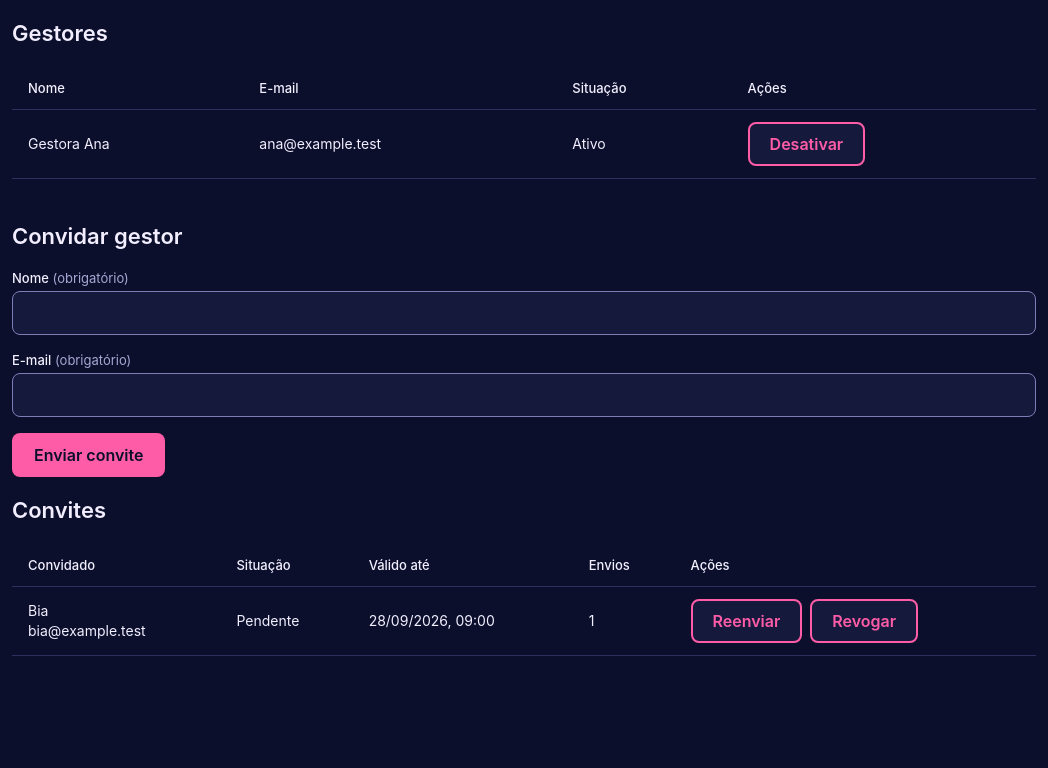
Test: ManagersAdmin (US4, FR-075) › desativar e revogar atualizam as linhas
Click the button with aria-label "Desativar Gestora Ana" at {"x": 806, "y": 144}, box [748, 122, 865, 166]
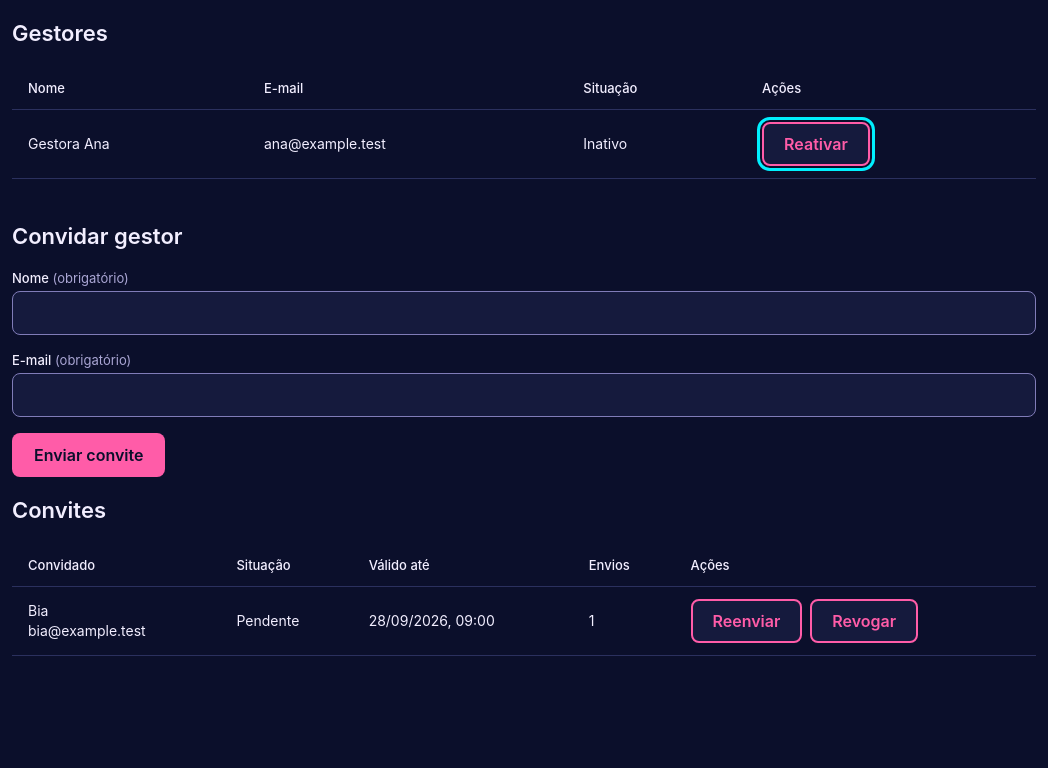
Now the button with aria-label "Reativar Gestora Ana" is shown, box [762, 122, 870, 166]
Click the button with aria-label "Revogar convite para bia@example.test" at {"x": 864, "y": 620}, box [810, 598, 918, 642]
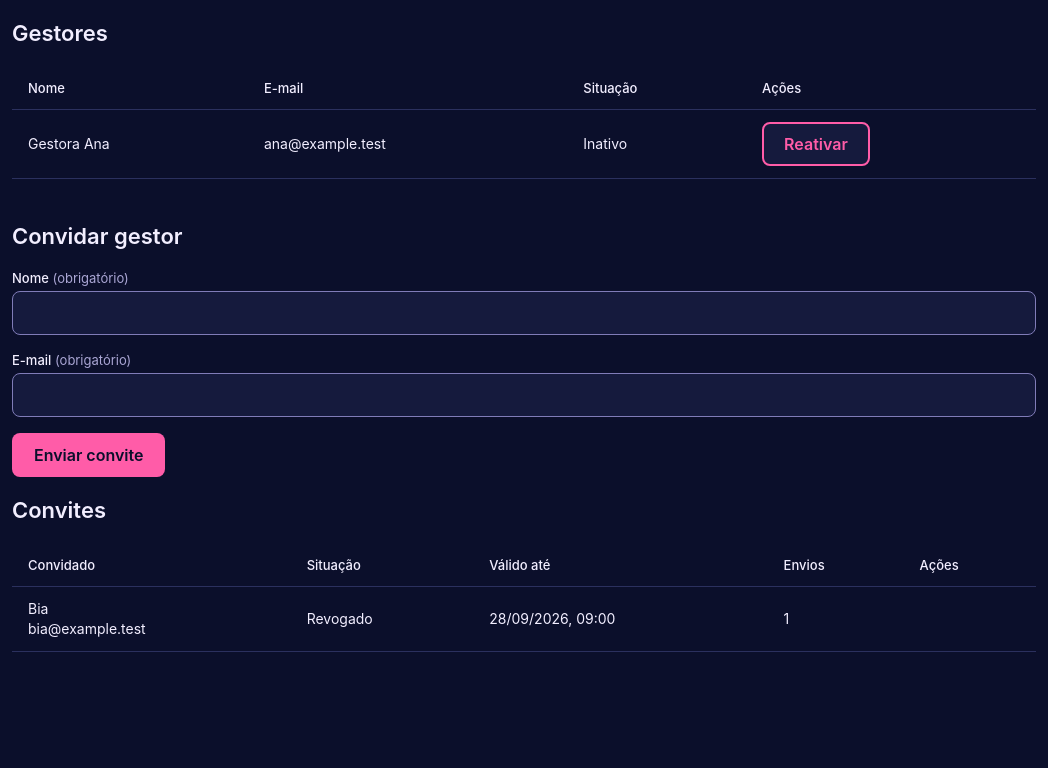
Now the button "Reenviar" is gone
